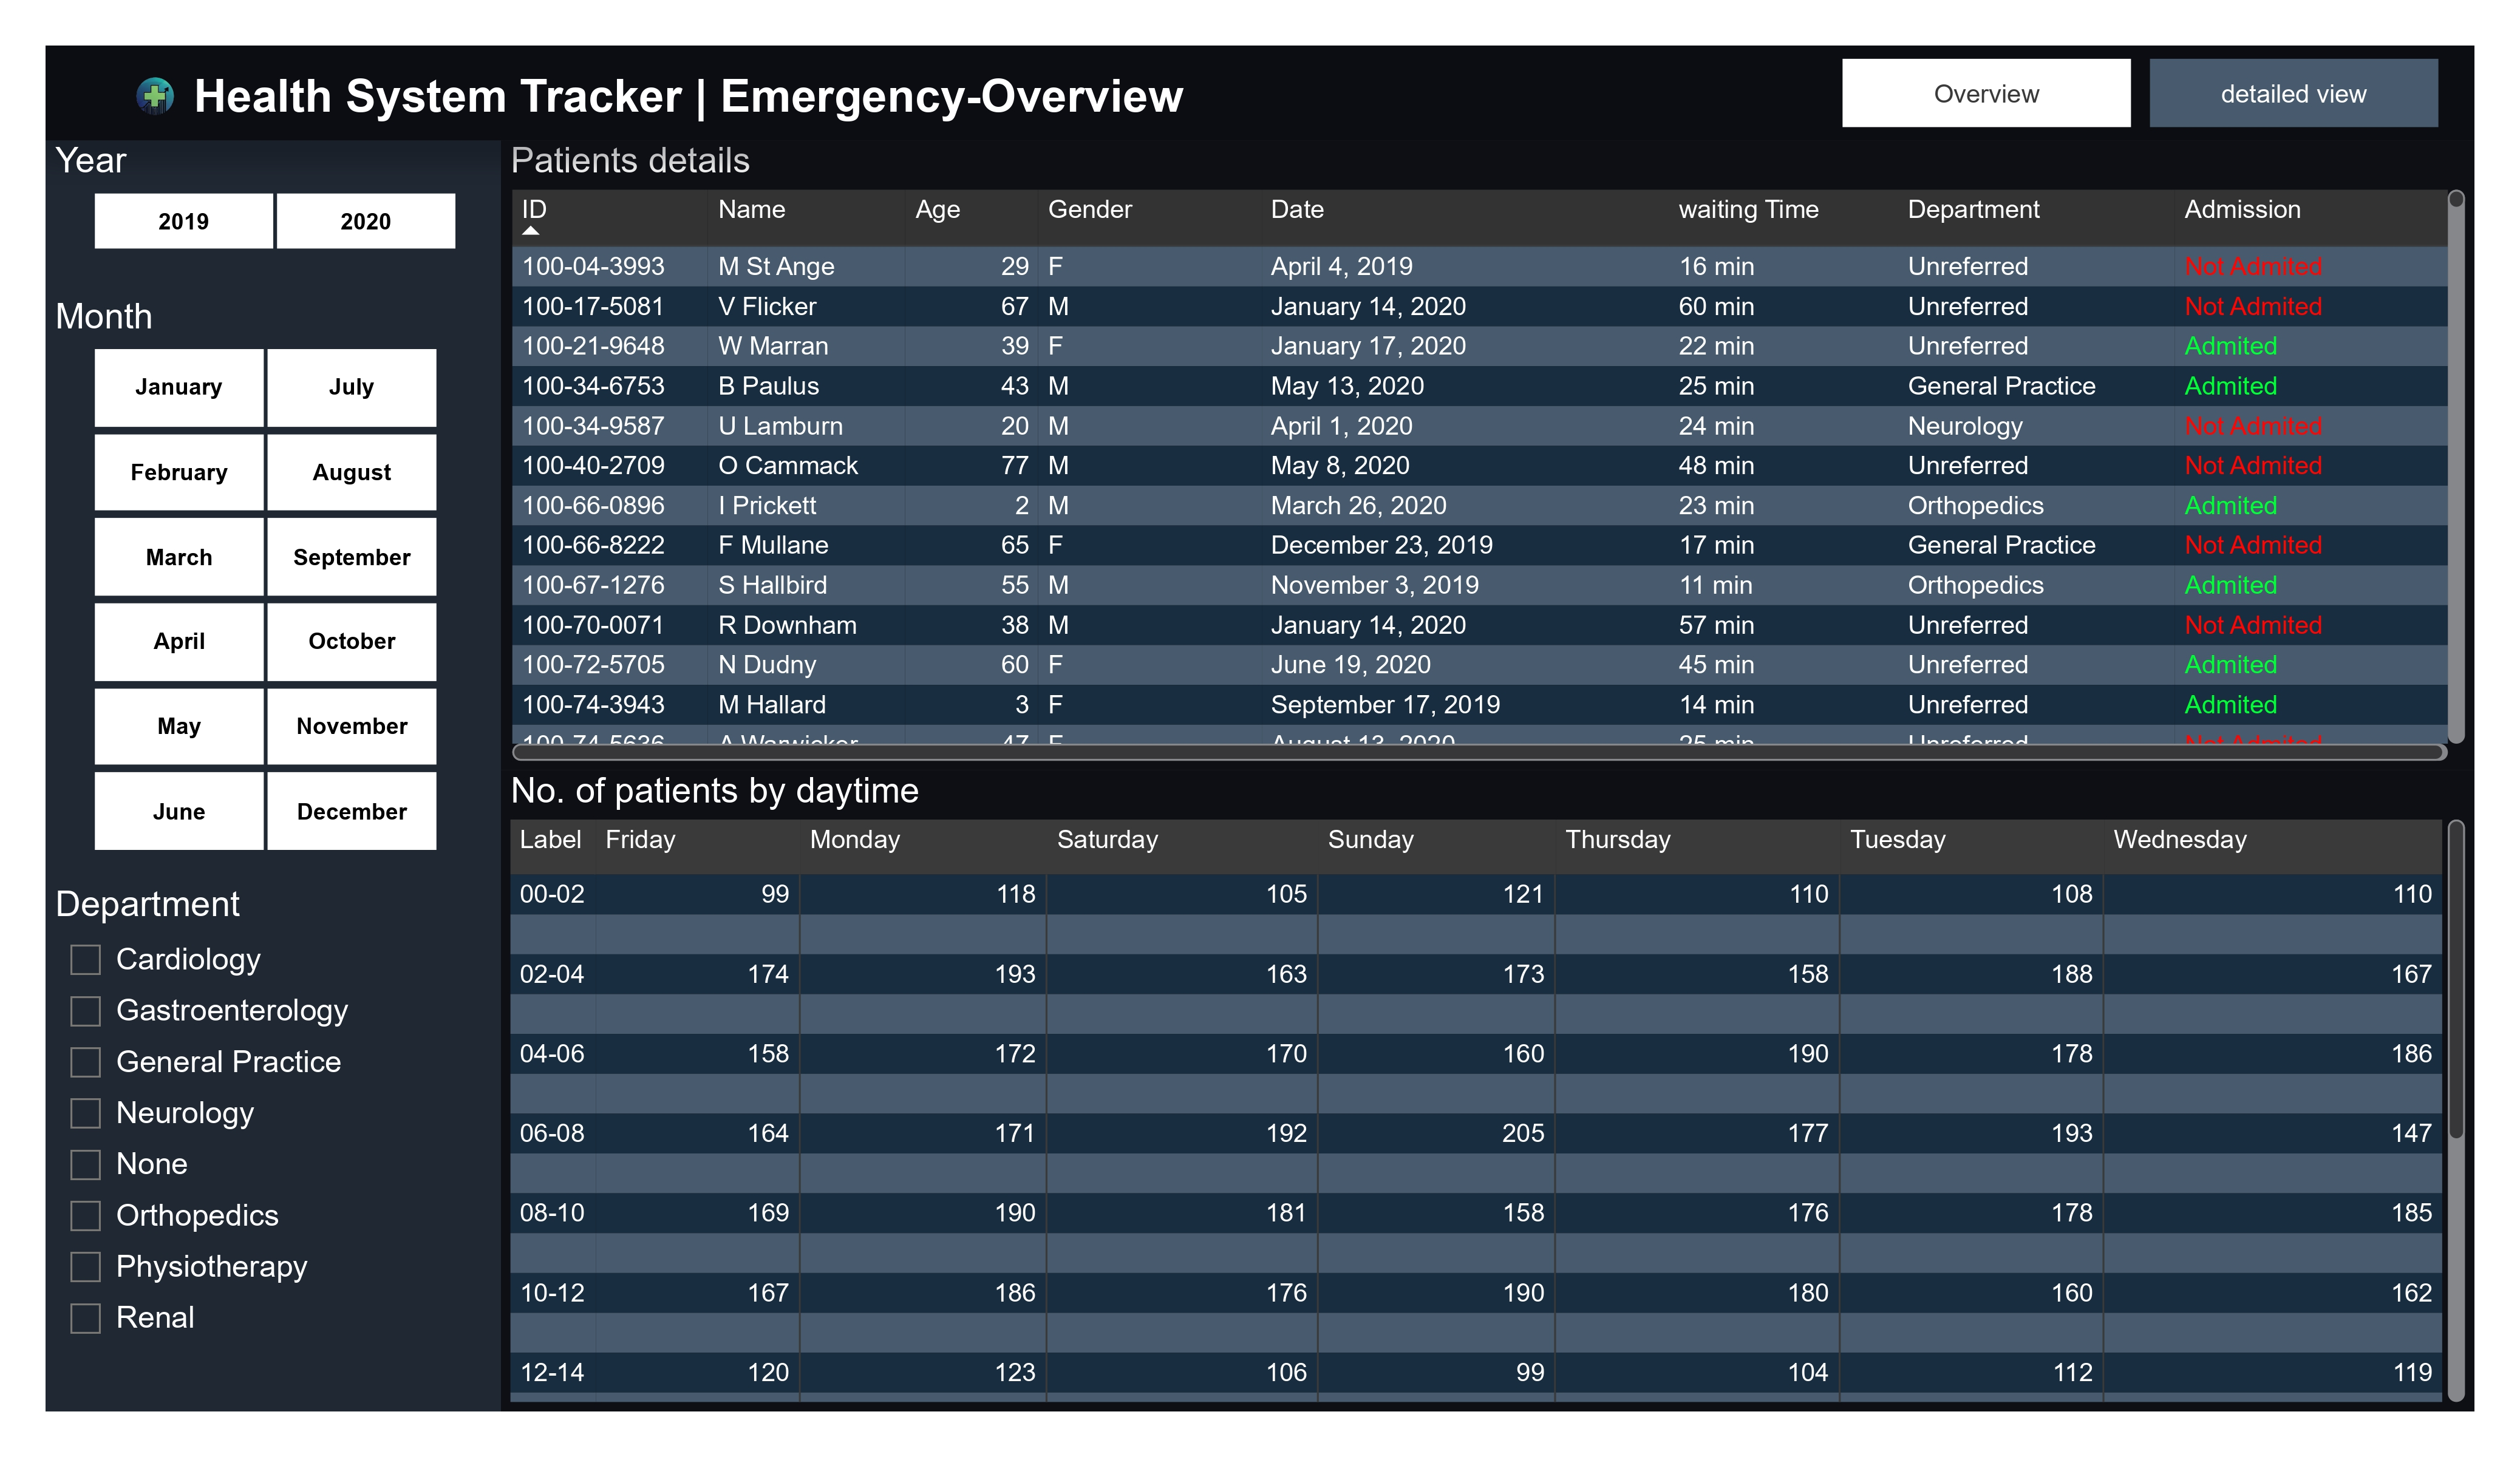

The page's visual inventory and layout, read from the dashboard file:
{"tool":"powerbi","page":{"name":"Overview","canvas":[1280,720],"ordinal":0},"visuals":[{"type":"shape","box":[0,43.2,240.5,676.8],"z":0,"group":"g1"},{"type":"tableEx","title":"Patients details","fields":{"Values":["Hospital%20ER.ID","Hospital%20ER.Name","Sum(Hospital%20ER.Age)","Hospital%20ER.Gender","Hospital%20ER.Date","Hospital%20ER.waiting Time - Copy","Hospital%20ER.Department1","Hospital%20ER.Admission"]},"box":[240.5,50.4,1039.7,331.2],"z":0},{"type":"shape","box":[0,0,1280.2,50.4],"z":1000,"group":"g1"},{"type":"pivotTable","title":"No. of patients by daytime","fields":{"Columns":["Emergency.Day Name"],"Rows":["Hospital%20ER.Label"],"Values":["CountNonNull(Emergency.ID)"]},"box":[240.5,381.6,1039.7,338.4],"z":1000},{"type":"group","id":"g1","title":"Group 1","box":[0,0,1280.2,720],"z":2000},{"type":"slicer","title":"Year","fields":{"Values":["Hospital%20ER.Date.Variation.Date Hierarchy.Year"]},"box":[0,50.4,240.5,63.4],"z":2000,"group":"g1"},{"type":"image","box":[0,0,115,53.3],"z":2001,"group":"g2"},{"type":"group","id":"g2","title":"Group 2","box":[0,0,658.3,55],"z":3000,"group":"g1"},{"type":"slicer","title":"Month","fields":{"Values":["Hospital%20ER.Date.Variation.Date Hierarchy.Month"]},"box":[0,132.5,230.4,298.1],"z":4000,"group":"g1"},{"type":"slicer","title":"Department","fields":{"Values":["Hospital%20ER.Department"]},"box":[0,442.1,240.5,277.9],"z":5000,"group":"g1"},{"type":"pageNavigator","box":[946.7,6.7,315,36.7],"z":6000,"group":"g1"},{"type":"textbox","box":[73.3,8.3,585,46.7],"z":7000,"group":"g2"}]}

Visuals, with their boxes on the page's 1280x720 design canvas (x1, y1, x2, y2). These are canvas units, not pixel positions in the 2520x1457 screenshot, which may show the page scaled, cropped or inside an application window:
shape: (0,43,240,720)
"Patients details" tableEx: (240,50,1280,382)
shape: (0,0,1280,50)
"No. of patients by daytime" pivotTable: (240,382,1280,720)
"Group 1" group: (0,0,1280,720)
"Year" slicer: (0,50,240,114)
image: (0,0,115,53)
"Group 2" group: (0,0,658,55)
"Month" slicer: (0,132,230,431)
"Department" slicer: (0,442,240,720)
pageNavigator: (947,7,1262,43)
textbox: (73,8,658,55)
